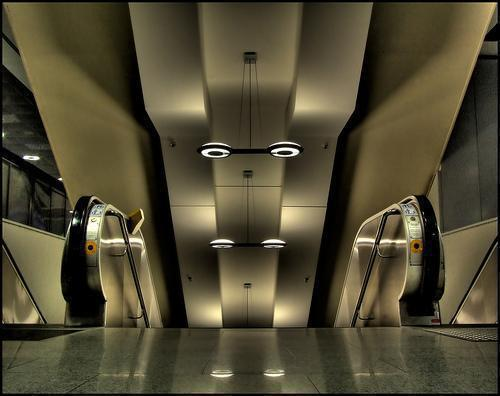Escaleras: (78, 187, 467, 338)
